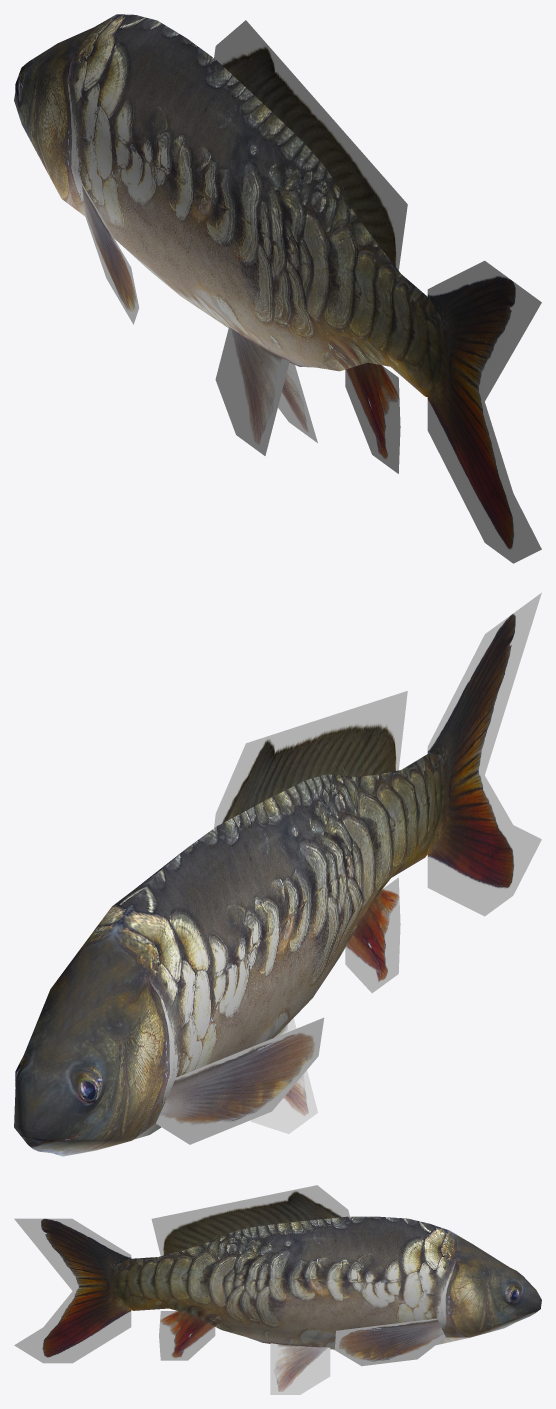
The model's file is carp.dae.
The picture shows the model from 3 angles, top to bottom: view 1: azimuth 30°, elevation 25°; view 2: azimuth 150°, elevation 25°; view 3: azimuth 270°, elevation 25°; orthographic projection. The views are drawn at different scales.
Visible parts, largest first — view 1: Объект_Плоскость; view 2: Объект_Плоскость; view 3: Объект_Плоскость.
Boxes of the visible parts, <box> form: Объект_Плоскость: <box>14,14,541,563</box>; Объект_Плоскость: <box>14,592,541,1156</box>; Объект_Плоскость: <box>14,1185,541,1394</box>.
Bounding box in the file's own units: 392 × 769 × 1811.
Materials: 1 (1 with a texture image).
